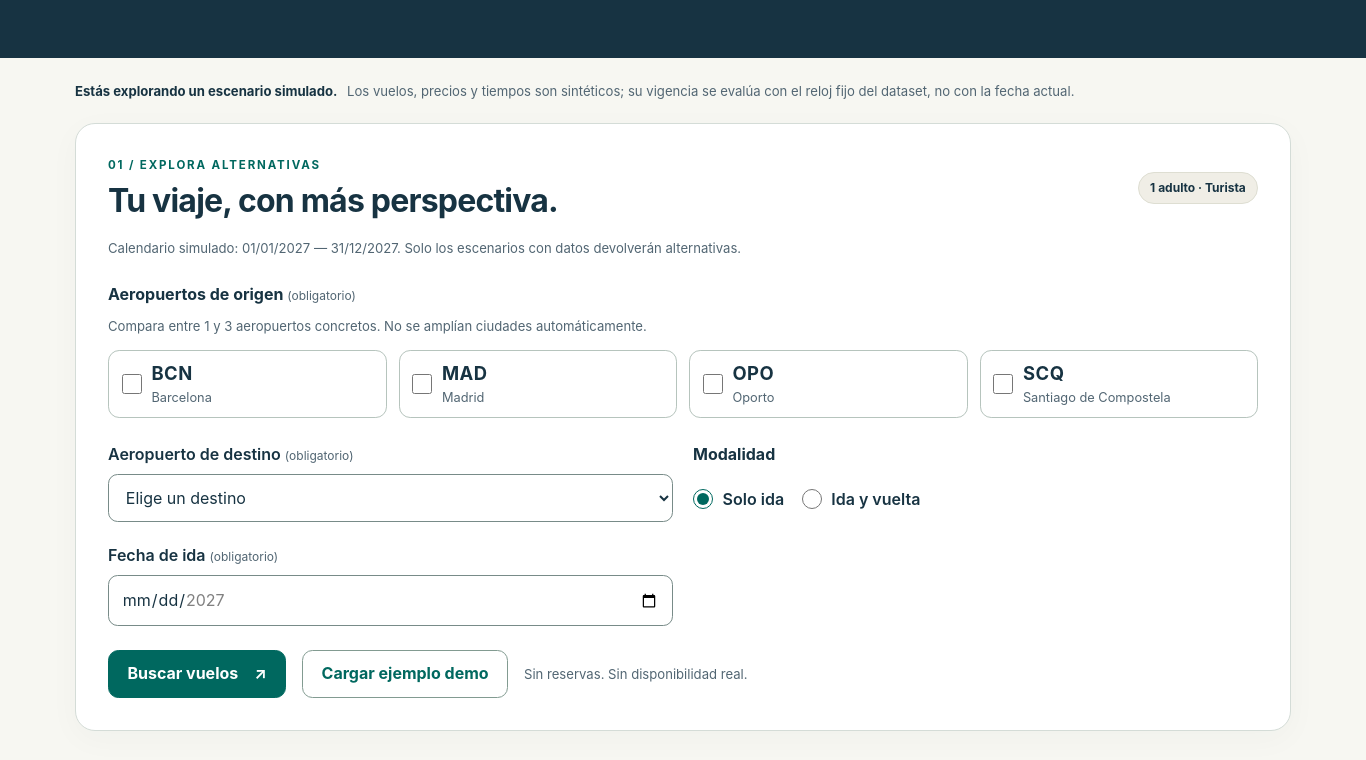
Test case: experiencia Airwise demo › presenta el estado vacío sin fabricar ofertas
This screenshot has width=1366, height=760.
(page scrolled)
Click the checkbox labelled "OPO Oporto" at {"x": 713, "y": 384}, box x1=703 y1=374 x2=723 y2=394
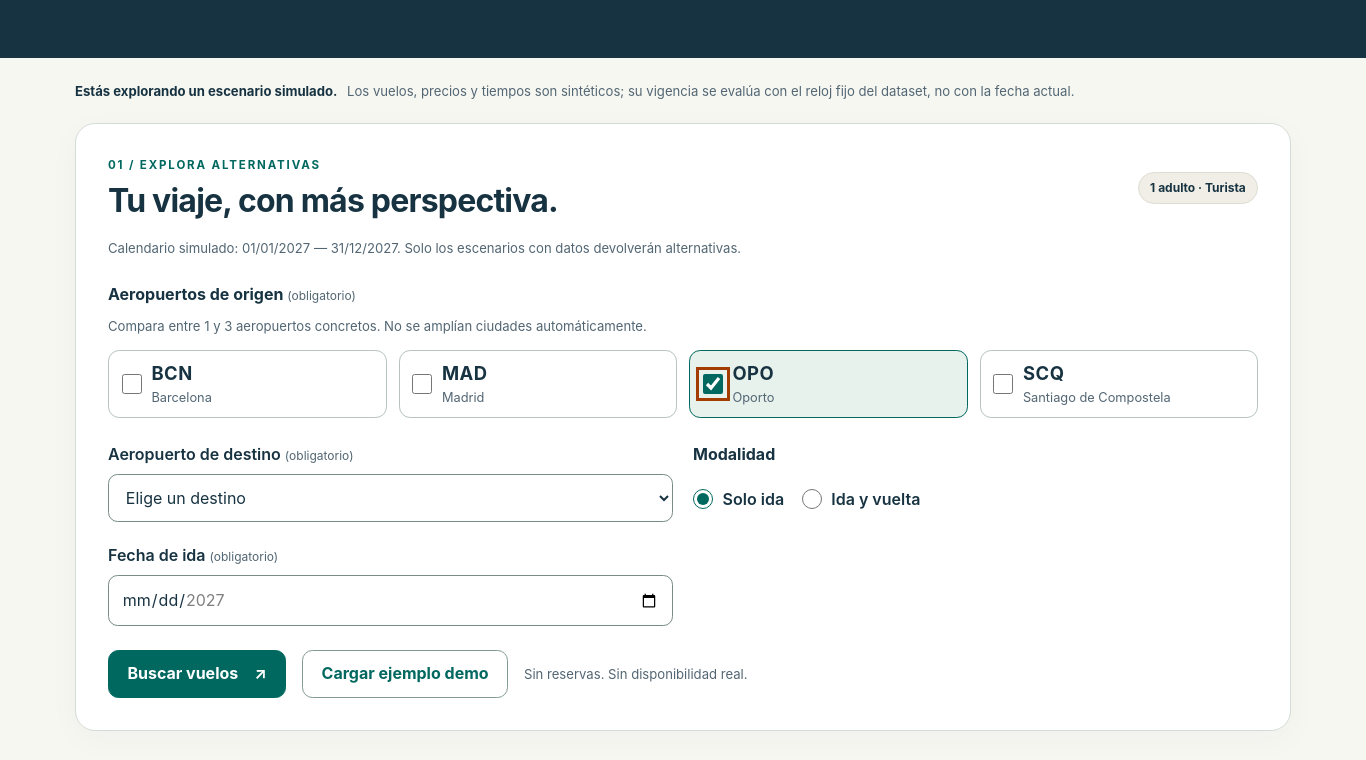
Select "MAD · Madrid" in the dropdown labelled "Aeropuerto de destino (obligatorio)" at {"x": 390, "y": 498}, box x1=108 y1=474 x2=673 y2=522
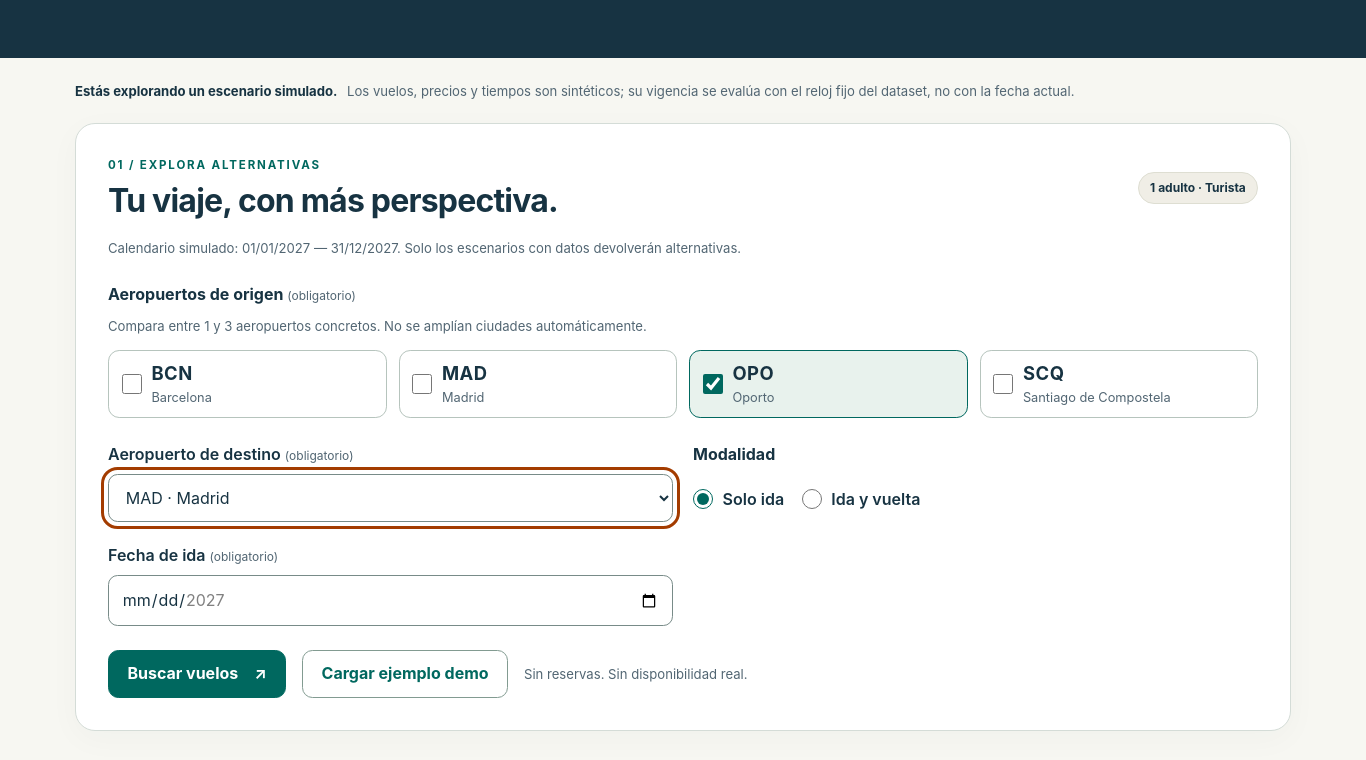
Click the radio button labelled "Solo ida" at {"x": 703, "y": 499}, box x1=693 y1=489 x2=713 y2=509
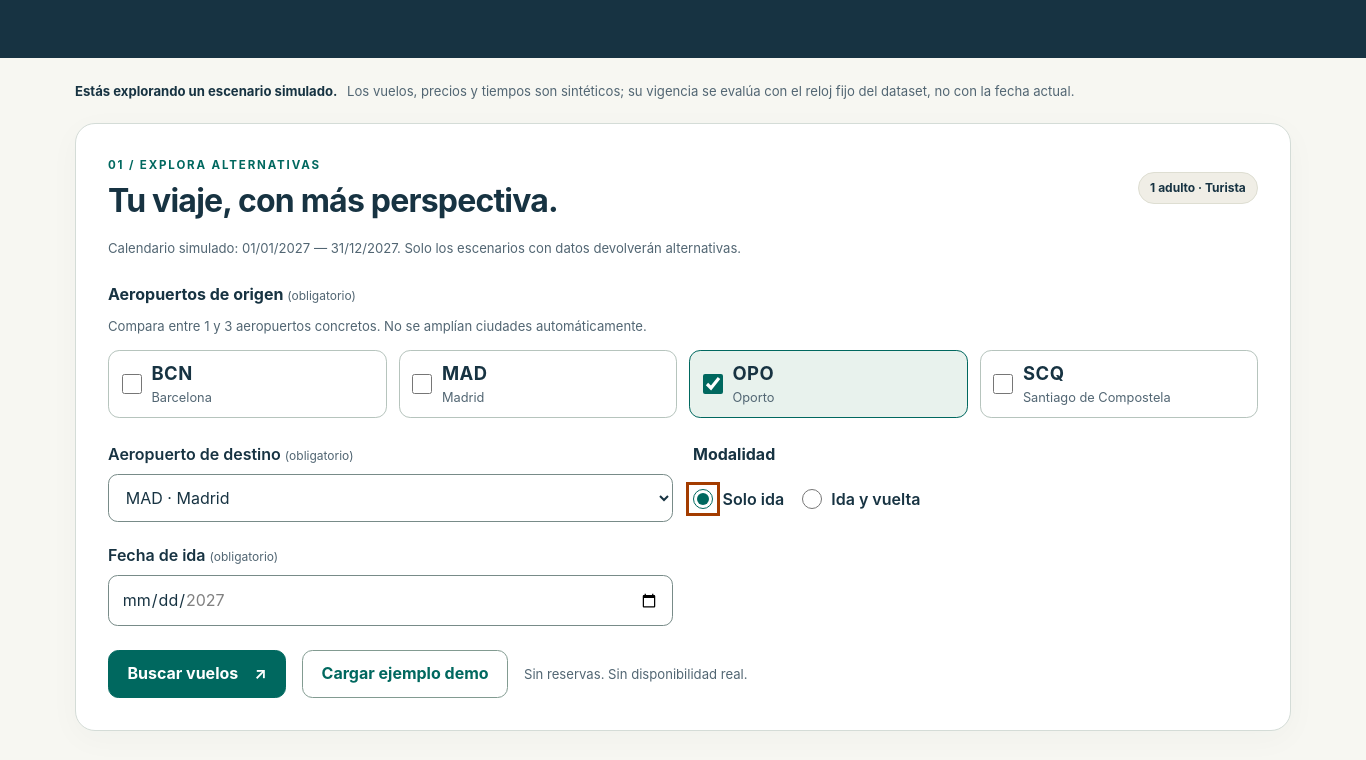
Type "2027-02-10" into the date field labelled "Fecha de ida (obligatorio)" at {"x": 390, "y": 600}, box x1=108 y1=575 x2=673 y2=626
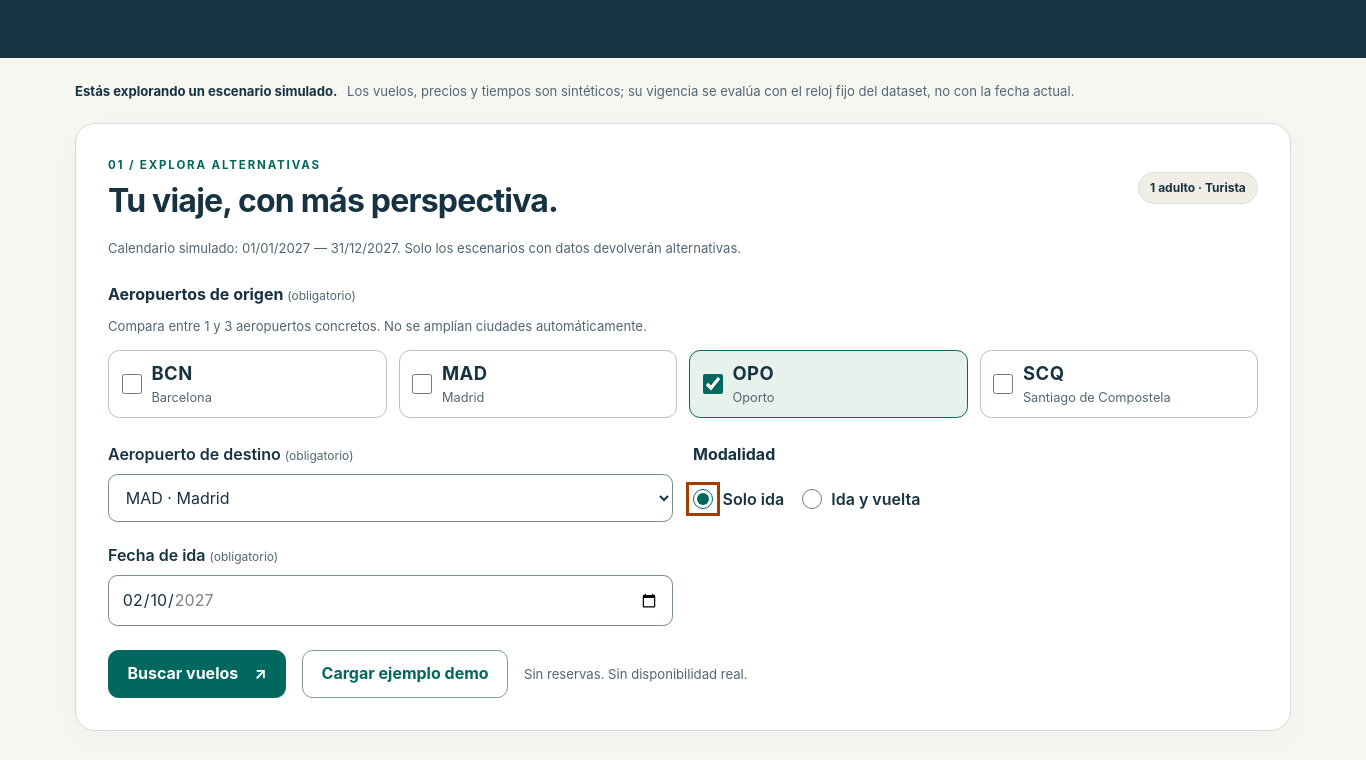
Click the button "Buscar vuelos ↗" at {"x": 197, "y": 674}, box x1=108 y1=650 x2=286 y2=698
(page scrolled)
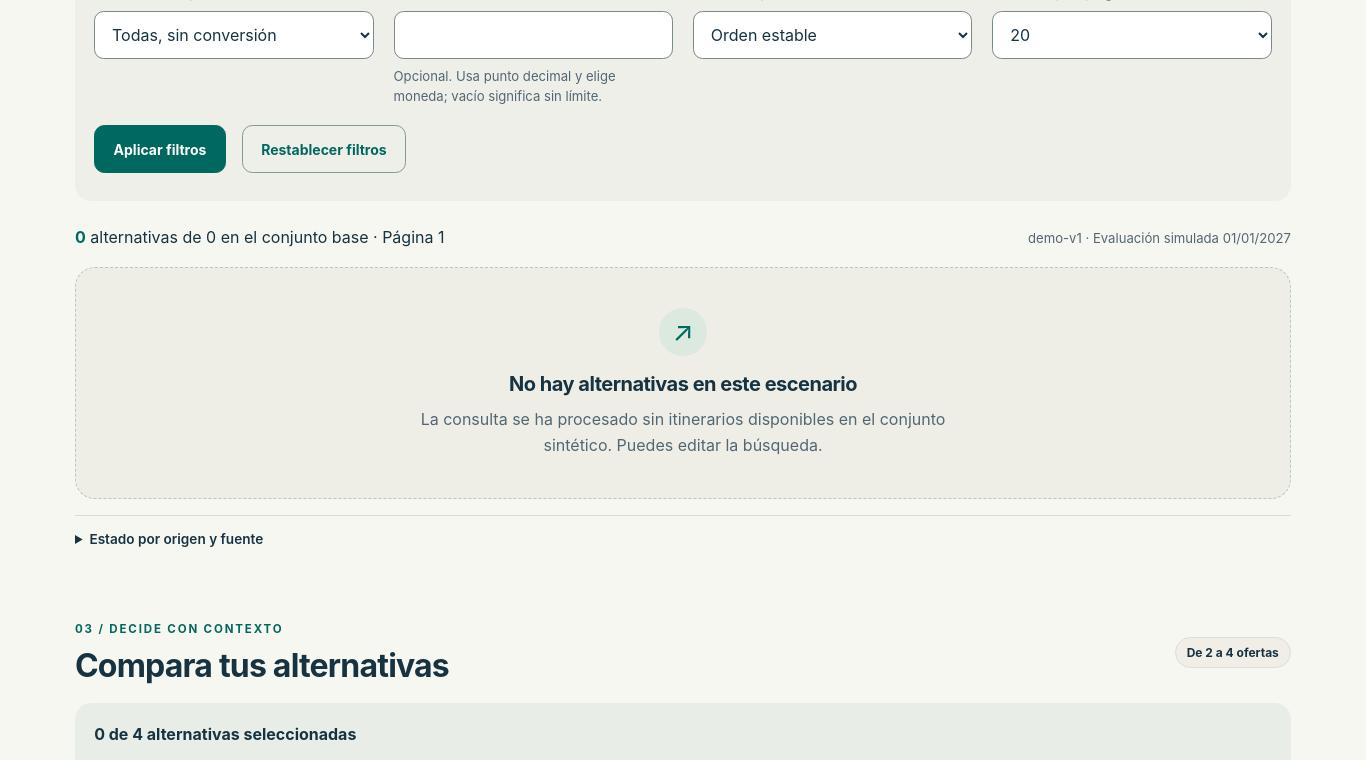
Result: the heading "No hay alternativas en este escenario" is shown at x1=509 y1=372 x2=857 y2=396
